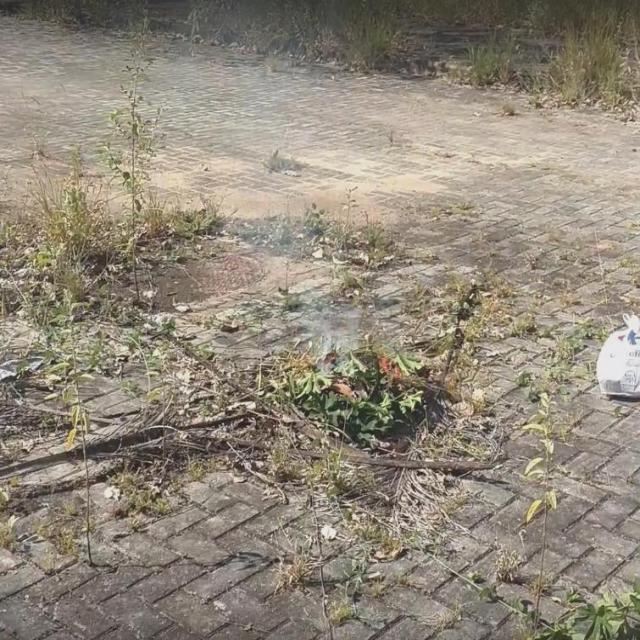Fire: (376, 342, 408, 382)
